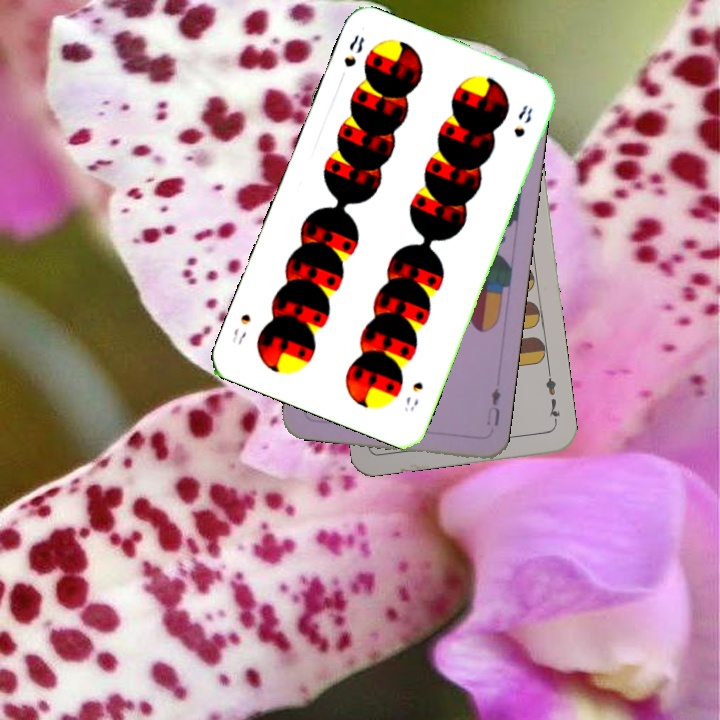E7: (542, 368, 563, 427)
EU: (482, 384, 504, 429)
S8: (339, 30, 367, 70), (400, 377, 426, 414)
